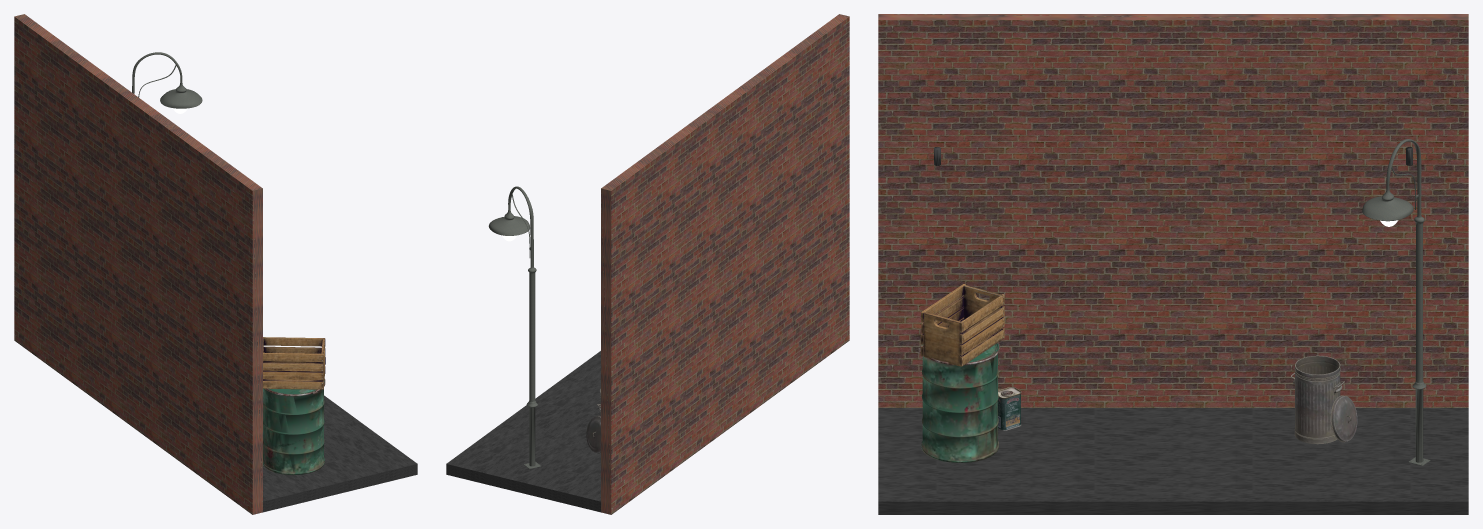
File: neonbrick7glb-v1.glb
The picture shows the model from 3 angles, left to right: view 1: azimuth 30°, elevation 25°; view 2: azimuth 150°, elevation 25°; view 3: azimuth 270°, elevation 25°; orthographic projection. The views are drawn at different scales.
Parts seen in each view (by area): view 1: Cube.001, Cube, Steel-drum, Dirty Cedar White Wood Container, Street Lamp.001; view 2: Cube.001, Cube, Street Lamp.001, Metal Transh Can; view 3: Cube.001, Cube, Steel-drum, Dirty Cedar White Wood Container, Metal Transh Can, Street Lamp.001, Retopo_3DModel_mesh.
Part boxes in pixels (x1,y1,x2,y2): Cube.001: (14,14,262,514); Cube: (263,395,417,512); Steel-drum: (263,379,325,475); Dirty Cedar White Wood Container: (263,337,325,389); Street Lamp.001: (132,52,202,113); Cube.001: (601,14,849,514); Cube: (446,351,600,512); Street Lamp.001: (488,186,541,468); Metal Transh Can: (586,389,600,453); Cube.001: (878,14,1468,407); Cube: (878,408,1468,514); Steel-drum: (918,342,999,462); Dirty Cedar White Wood Container: (920,284,1004,366); Metal Transh Can: (1290,355,1357,444); Street Lamp.001: (1362,139,1430,465); Retopo_3DModel_mesh: (998,387,1021,430).
Size of the model in its own units: 3.2 by 6 by 8.
11 materials, 7 textured.
